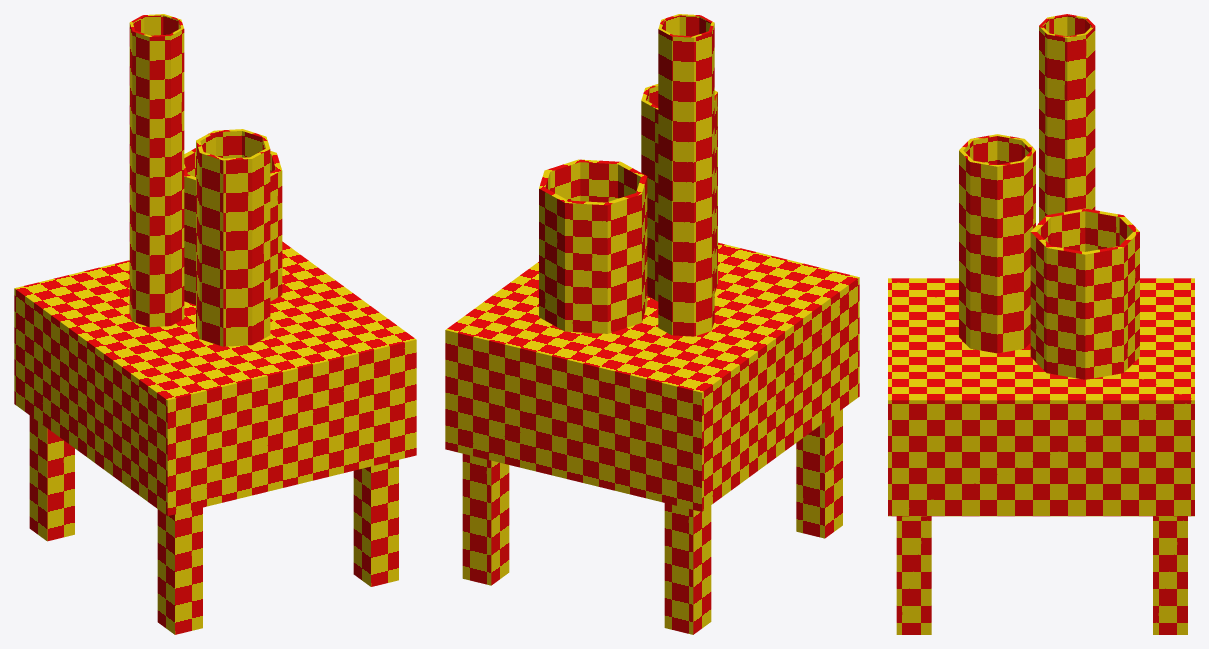
Rendered from Showcase_3ModernArt.fbx.
The picture shows the model from 3 angles, left to right: view 1: azimuth 30°, elevation 25°; view 2: azimuth 150°, elevation 25°; view 3: azimuth 270°, elevation 25°; orthographic projection. The views are drawn at different scales.
Visible parts, largest first — view 1: polySurface17, polySurface15, polySurface14, polySurface20, polySurface21, polySurface19, polySurface16; view 2: polySurface17, polySurface15, polySurface16, polySurface19, polySurface18, polySurface20, polySurface14; view 3: polySurface17, polySurface16, polySurface14, polySurface15, polySurface21, polySurface18.
Boxes of the visible parts, box(x1,y1,x2,y2) form: polySurface17: box(14, 241, 416, 515); polySurface15: box(129, 14, 184, 327); polySurface14: box(196, 129, 270, 346); polySurface20: box(157, 507, 202, 634); polySurface21: box(353, 460, 398, 586); polySurface19: box(29, 415, 74, 541); polySurface16: box(184, 148, 282, 304); polySurface17: box(445, 242, 859, 511); polySurface15: box(658, 14, 714, 336); polySurface16: box(539, 159, 647, 333); polySurface19: box(664, 503, 711, 634); polySurface18: box(462, 453, 509, 585); polySurface20: box(796, 409, 842, 538); polySurface14: box(641, 84, 717, 301); polySurface17: box(888, 278, 1194, 516); polySurface16: box(1030, 208, 1139, 379); polySurface14: box(959, 134, 1035, 353); polySurface15: box(1039, 14, 1095, 222); polySurface21: box(896, 516, 931, 634); polySurface18: box(1153, 516, 1187, 634).
Size of the model in its own units: 0.3516 by 0.7161 by 0.3744.
1 material, 1 textured.
